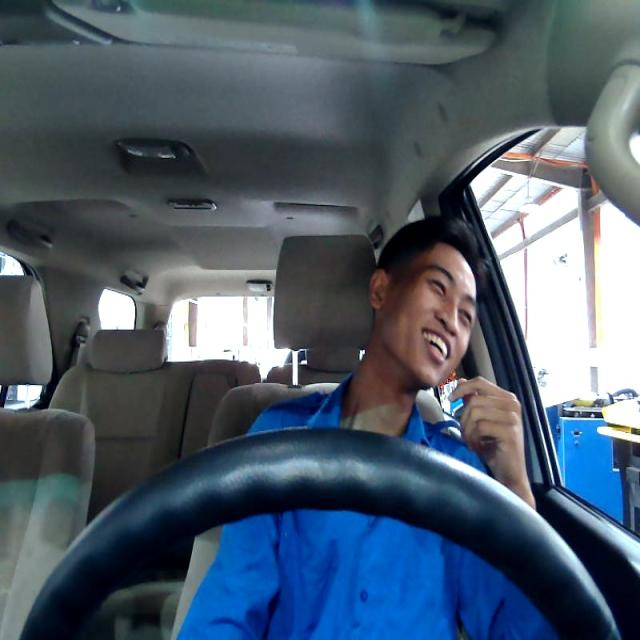focused: (368, 240, 478, 385)
